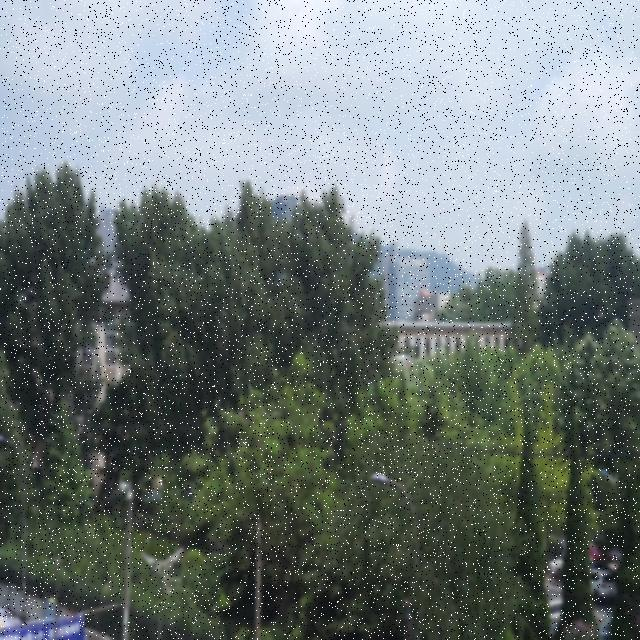UAV: (395, 355, 411, 363)
